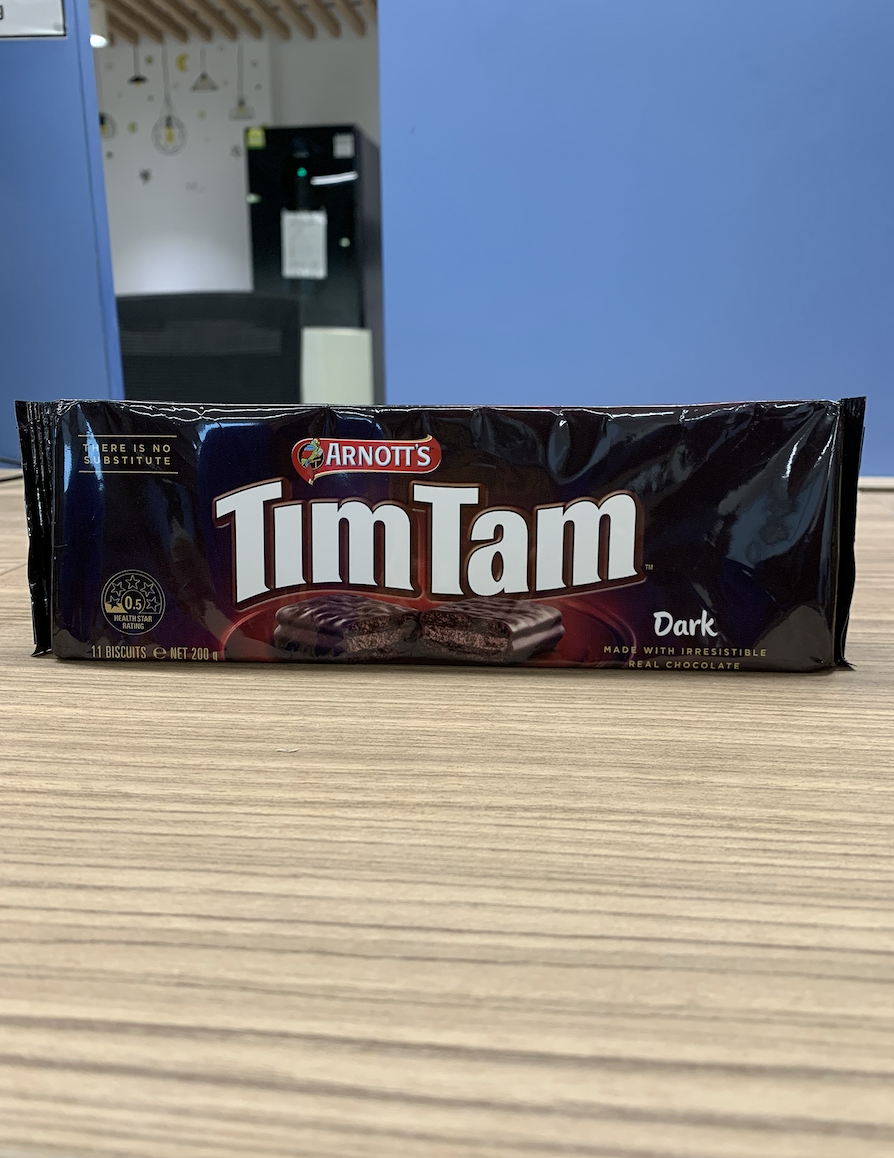cookies_150g: (53, 409, 837, 665)
